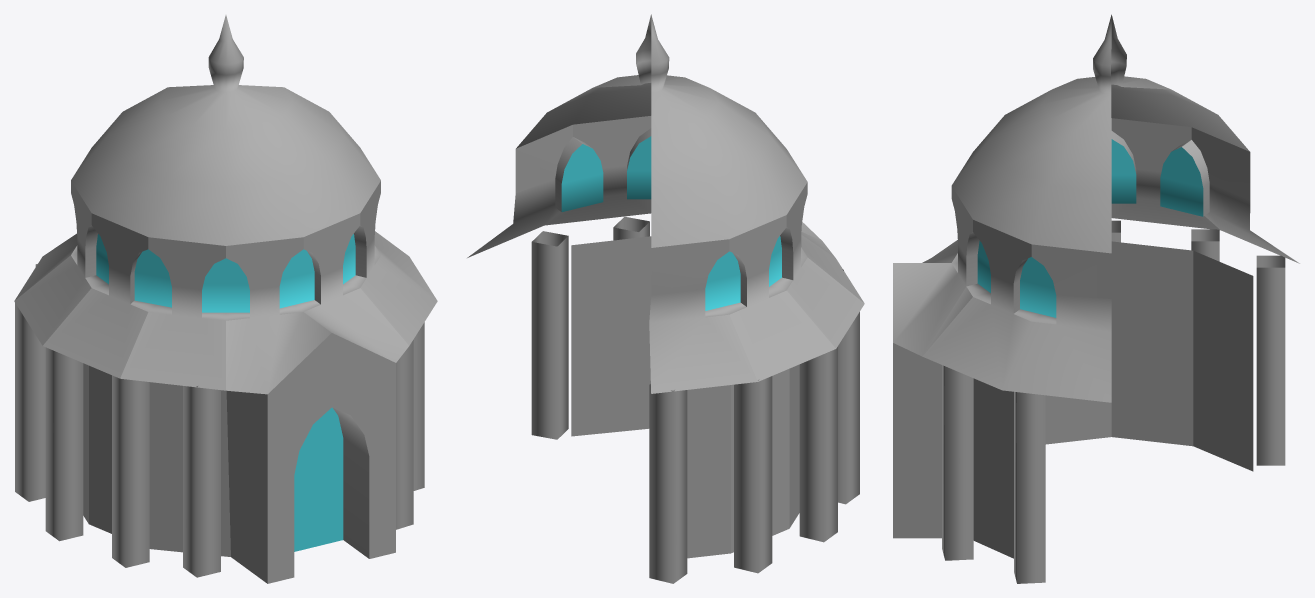
The model's file is asssassinTemple.fbx.
The picture shows the model from 3 angles, left to right: view 1: azimuth 30°, elevation 25°; view 2: azimuth 150°, elevation 25°; view 3: azimuth 270°, elevation 25°; orthographic projection. The views are drawn at different scales.
Parts seen in each view (by area): view 1: pCube12; view 2: pCube12; view 3: pCube12.
Part boxes in pixels (<box>): pCube12: <box>14,15,437,583</box>; pCube12: <box>467,14,864,583</box>; pCube12: <box>893,14,1299,583</box>.
Bounding box in the file's own units: 8.17 × 10.17 × 7.62.
